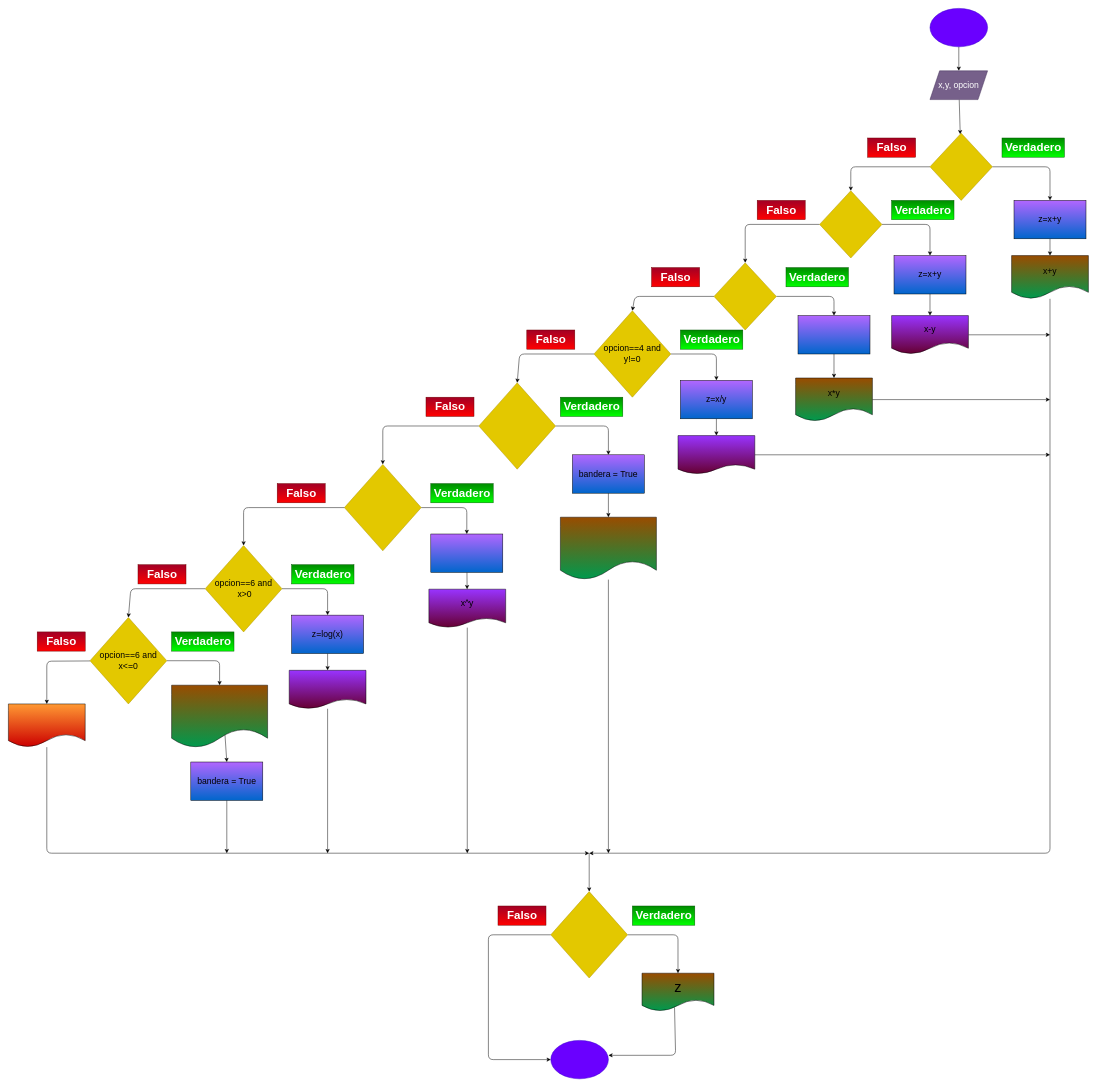
Image size: 1097x1087. Some labels were removed from this diagram. Each missing label, with the box of its shape:
El denominador es igual a 0 y no se puede realizar la division: (560, 517, 656, 580)
Fin: (550, 1040, 608, 1079)
Inicio: (930, 8, 988, 47)
Logaritmo de x: (289, 670, 366, 709)
No se puede calcular el logaritmo: (171, 685, 268, 748)
opcion<7 and bandera== False: (550, 891, 628, 978)
opcion==1: (930, 133, 992, 200)
opcion==2: (819, 190, 882, 258)
opcion==3: (714, 262, 776, 330)
opcion==4 and y==0: (478, 382, 556, 469)
opcion==5: (344, 464, 421, 551)
Opción no válida: (8, 703, 85, 747)
x/y: (678, 435, 755, 474)
z=x*y: (798, 315, 870, 354)
z=x^y: (430, 534, 503, 572)
